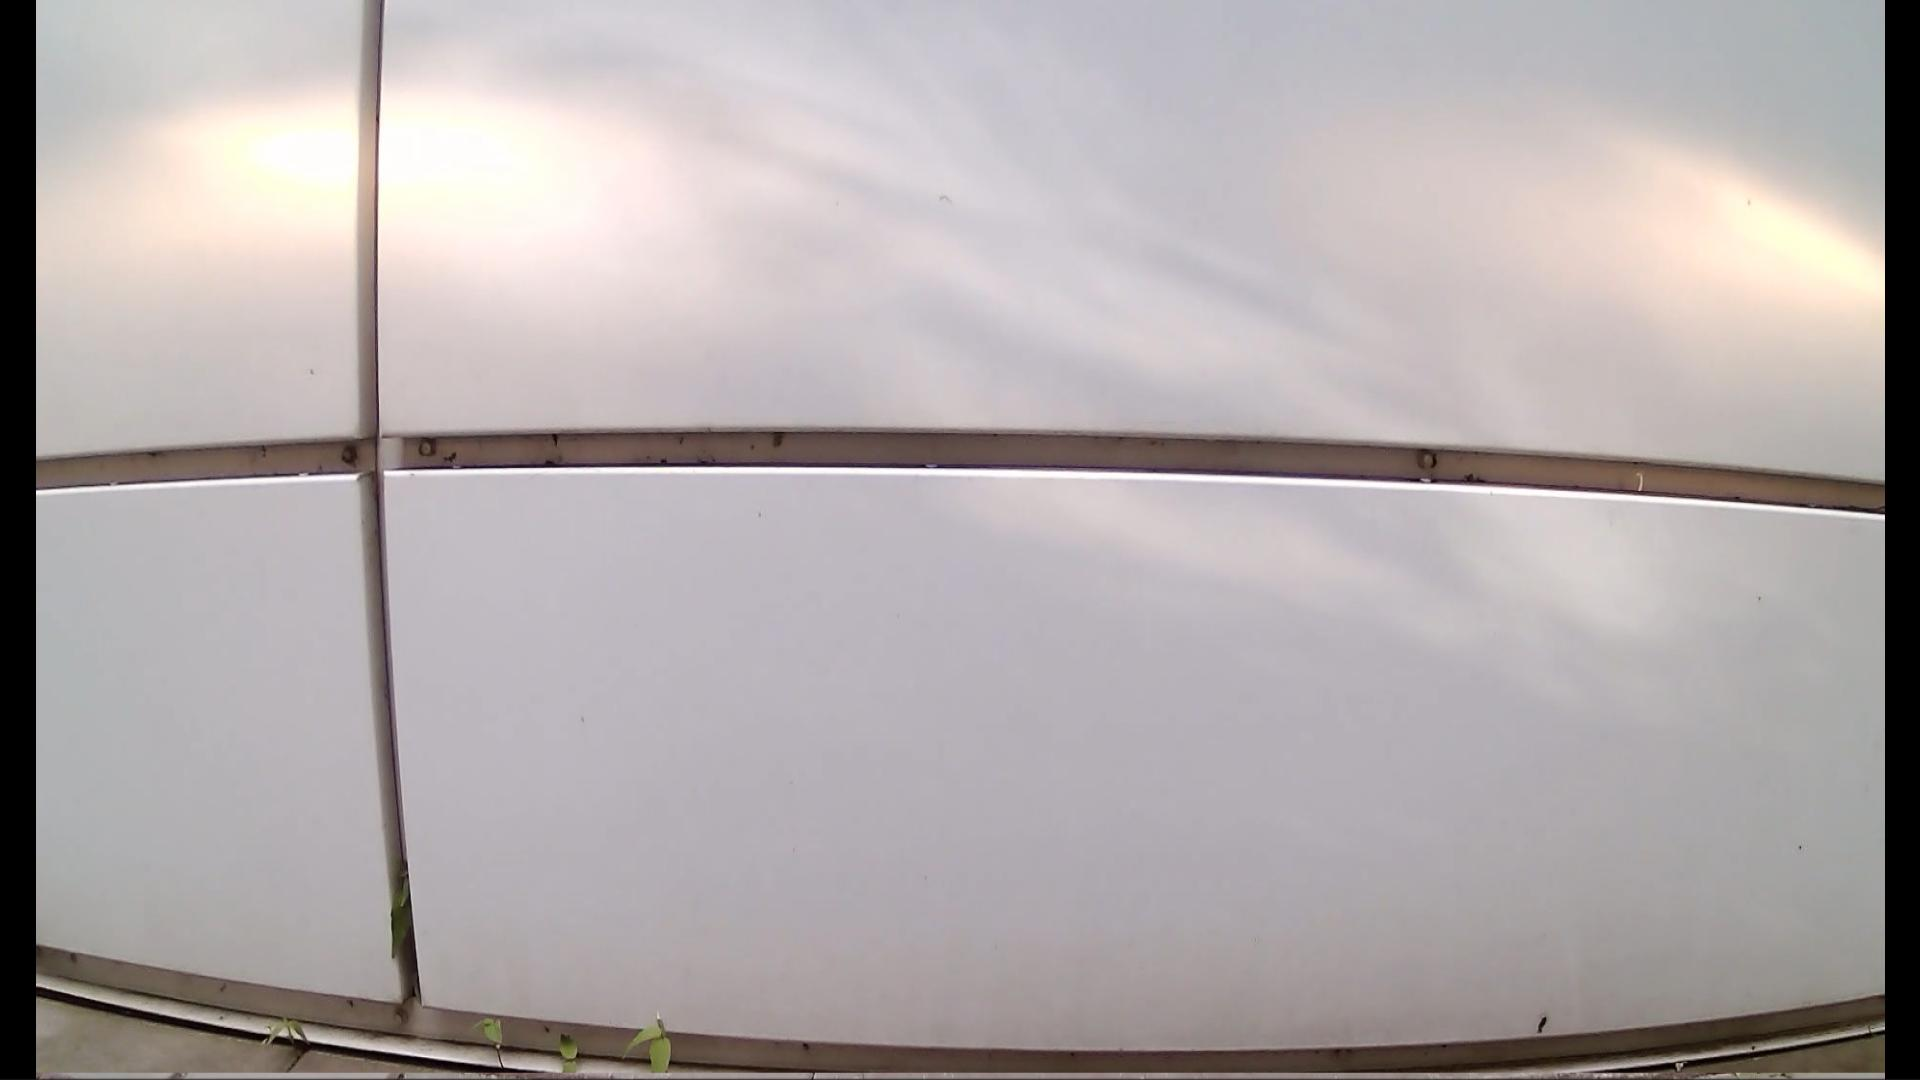wall: (42, 15, 1878, 940)
